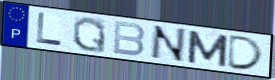B: (111, 20, 148, 58)
D: (225, 34, 266, 72)
L: (35, 11, 64, 48)
M: (186, 29, 230, 69)
N: (147, 24, 188, 64)
Q: (72, 16, 108, 55)
